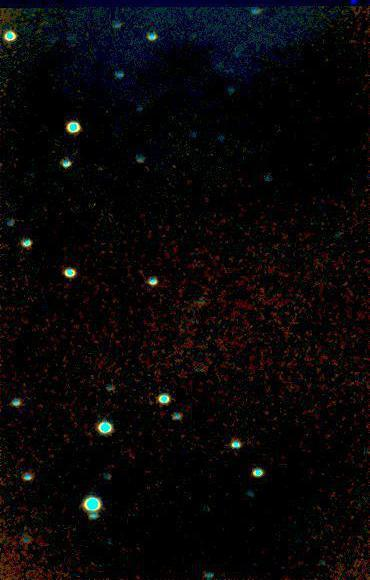star: (75, 186, 105, 216)
